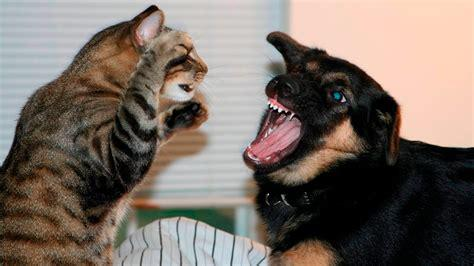cat: (1, 5, 206, 266)
dog: (243, 31, 474, 266)
